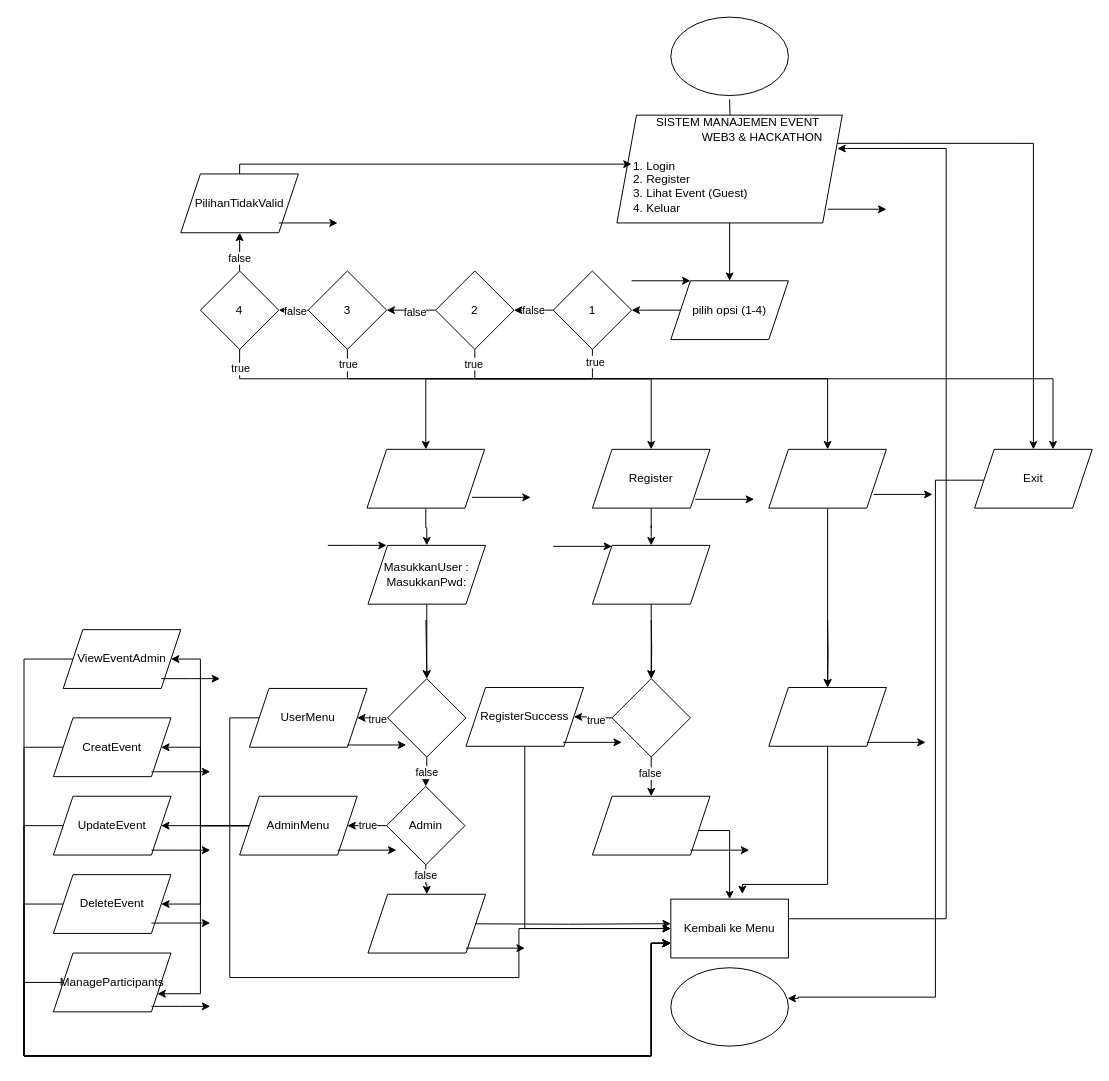
The diagram is 1109 pixels wide and 1081 high, and some of its shapes have lost their labels. Here are the shapes that lost their labels. From the top down, the box of each, then its label:
(670, 16, 788, 96): Start
(366, 448, 485, 508): Login
(768, 448, 886, 508): ViewEvent
(591, 544, 710, 604): MasukkanUserBaru : MasukkanPwdBaru:
(387, 678, 466, 757): User
(611, 678, 690, 757): Valid
(768, 686, 886, 746): TampilkanEvent
(591, 795, 710, 855): ErrorRegister
(367, 893, 486, 953): UserTidakDitemukan
(670, 967, 788, 1046): End
